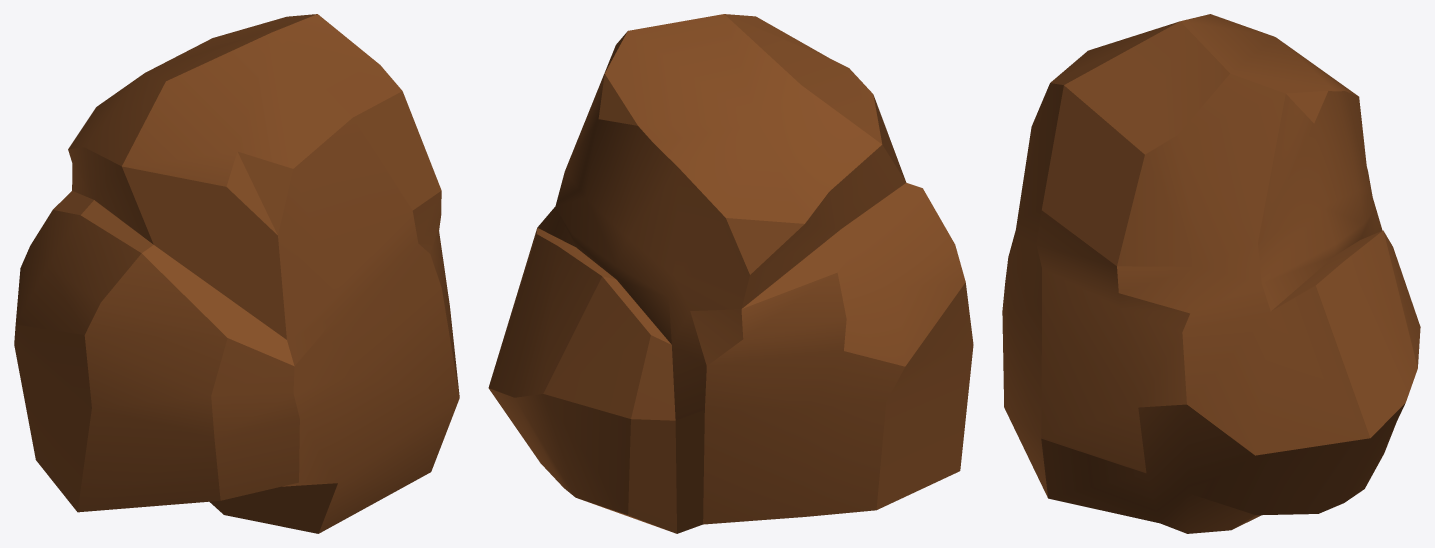
File: rock_b1.glb
3 renders of one model, left to right at view 1: azimuth 30°, elevation 25°; view 2: azimuth 150°, elevation 25°; view 3: azimuth 270°, elevation 25°, orthographic. The views are drawn at different scales.
Visible parts, largest first — view 1: Rock_1; view 2: Rock_1; view 3: Rock_1.
Boxes of the visible parts, bbox=[...] form: Rock_1: bbox=[14, 14, 459, 533]; Rock_1: bbox=[488, 14, 973, 533]; Rock_1: bbox=[1002, 14, 1420, 533].
Bounding box in the file's own units: 3.1 × 3.61 × 2.83.
Materials: 1 (1 with a texture image).
